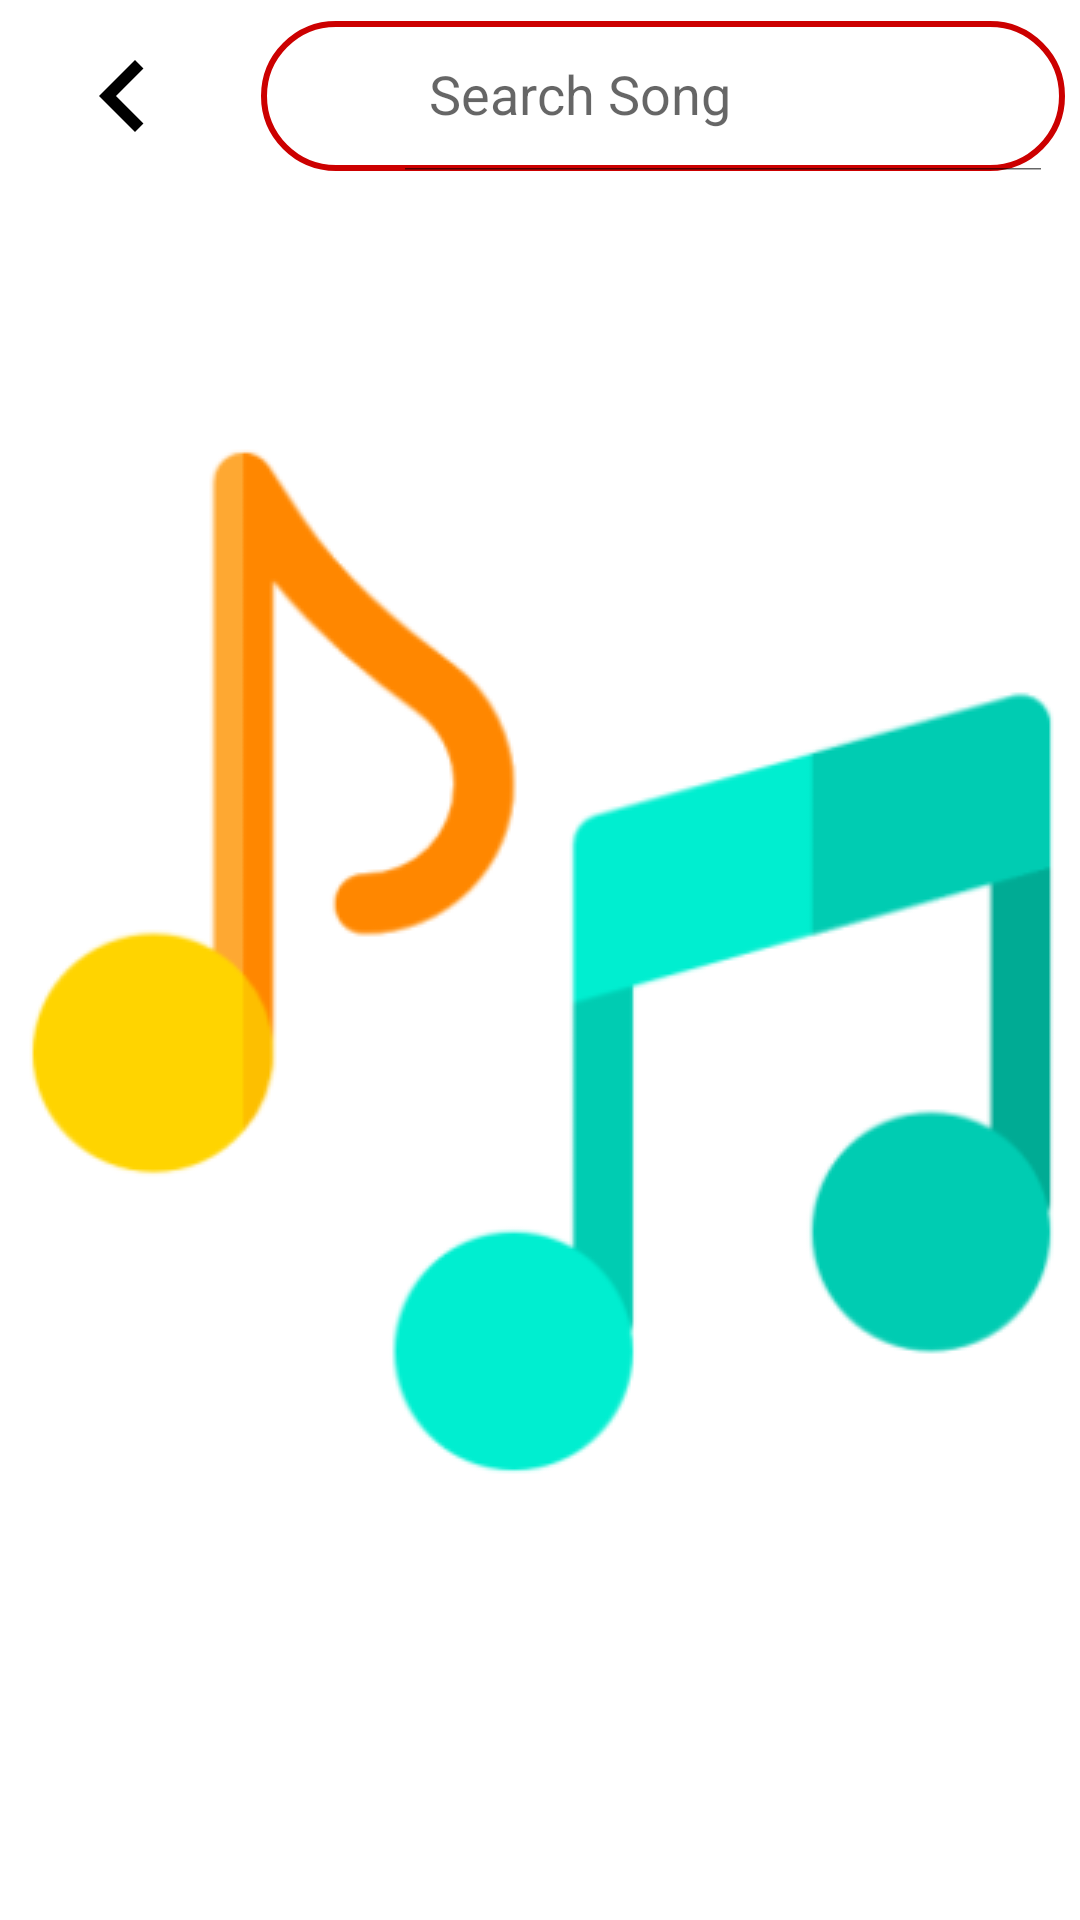

Locate icon controls on the screen. Image size 1080×1920, boxes as (x1, y1, x2, y2).
Back: (99, 60, 144, 132)
